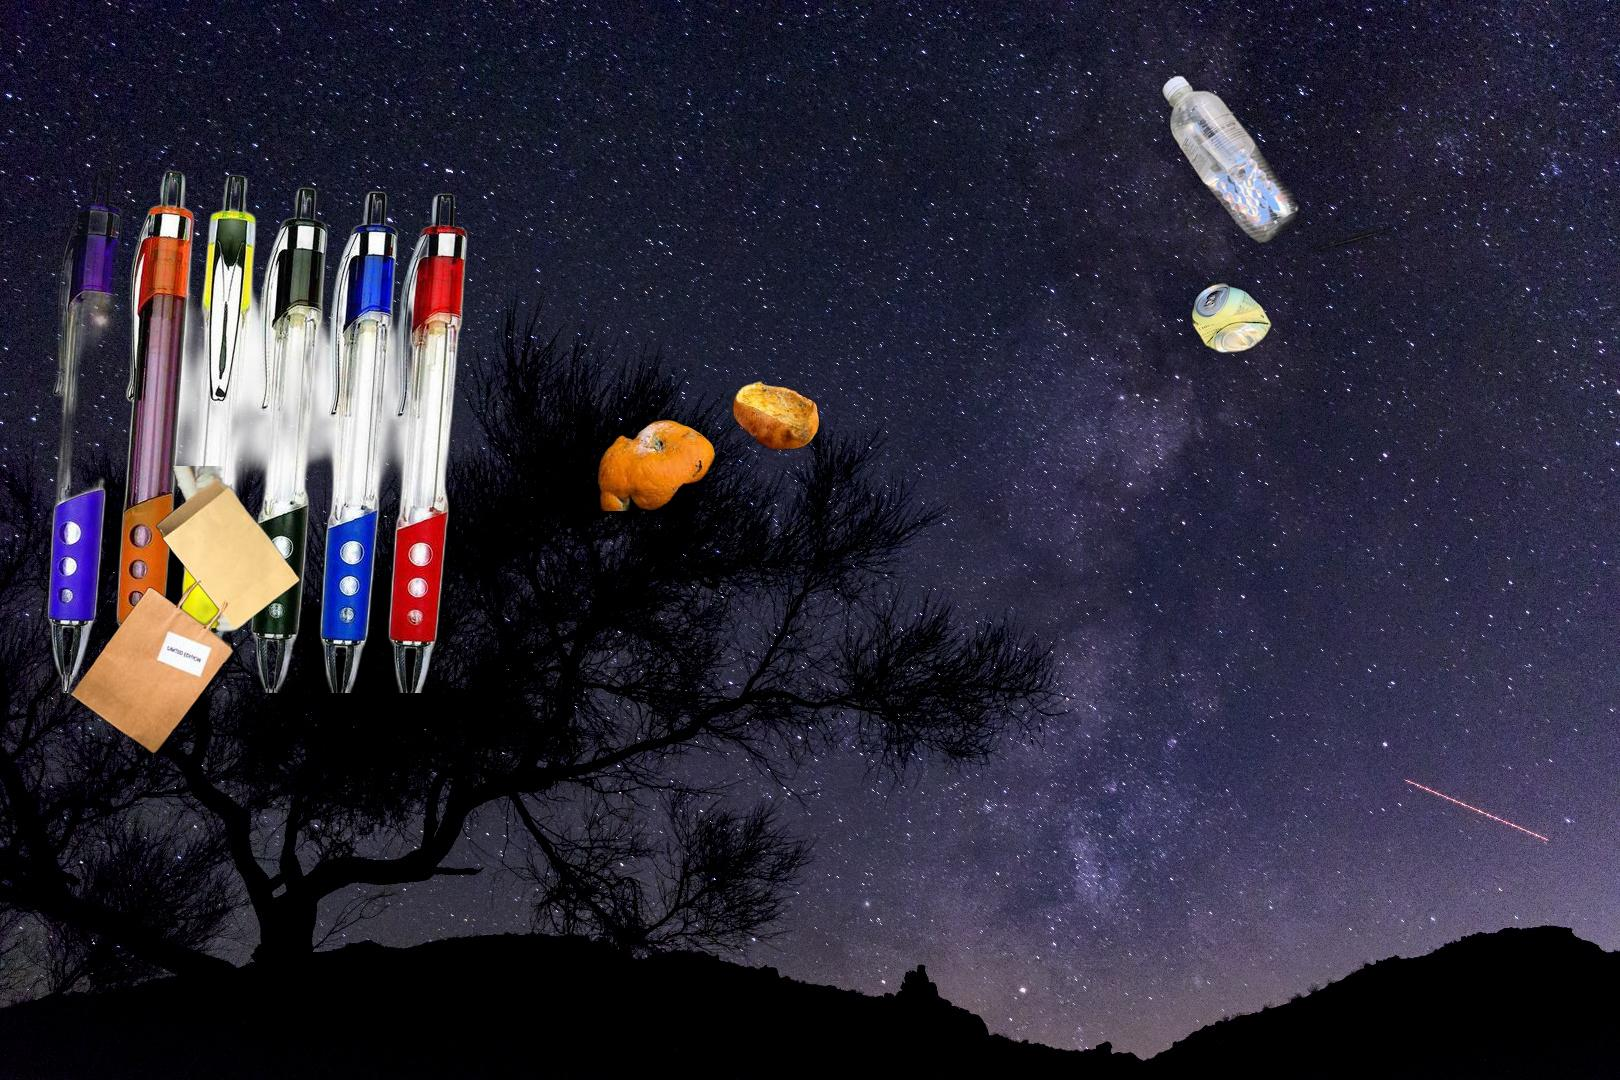biological: (598, 378, 834, 511)
metal-cans: (1188, 276, 1276, 360)
paper-bag: (67, 466, 303, 756)
penholder: (29, 166, 472, 693)
plastic-bottles: (1158, 69, 1442, 499)
